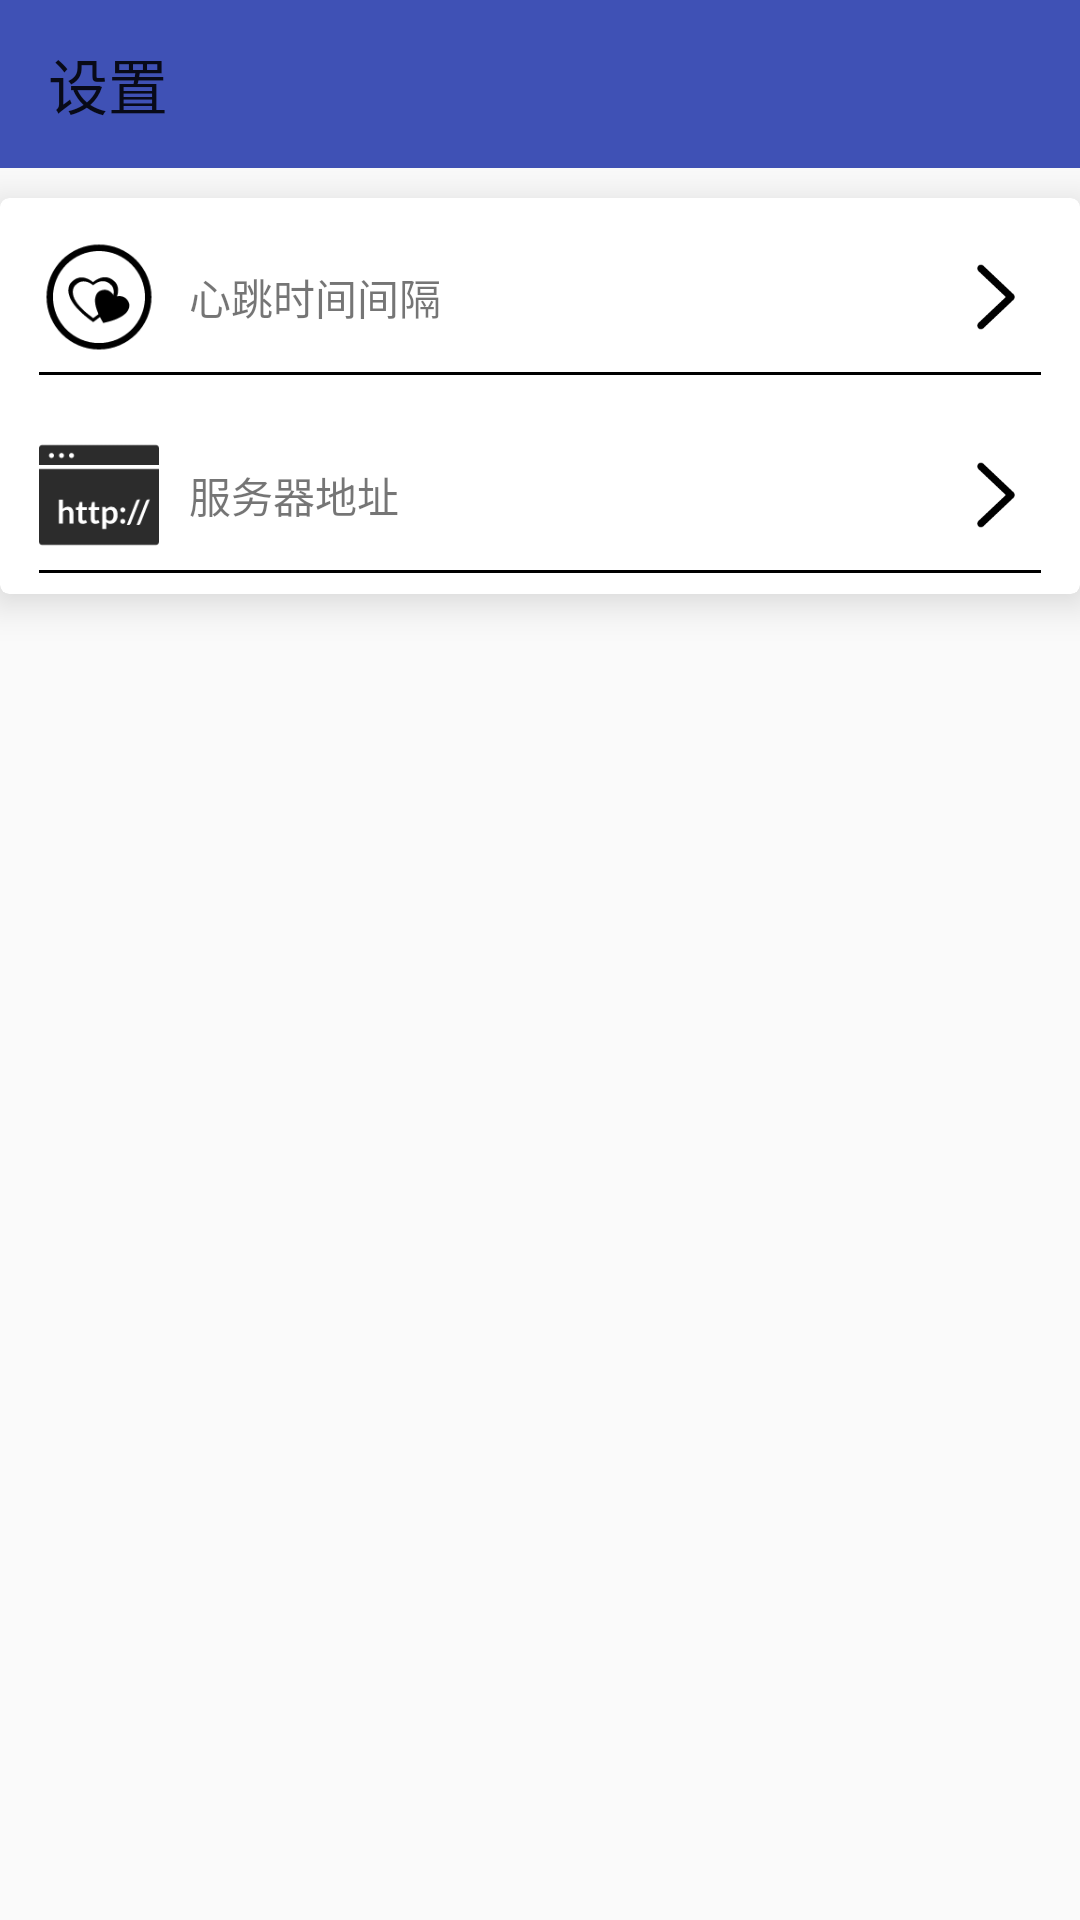

Icons on this 1080x1920 Android screen, each with its box as bbox=(x1, y1, x2, y2):
heart: bbox=(46, 244, 152, 350)
url: bbox=(39, 444, 159, 546)
